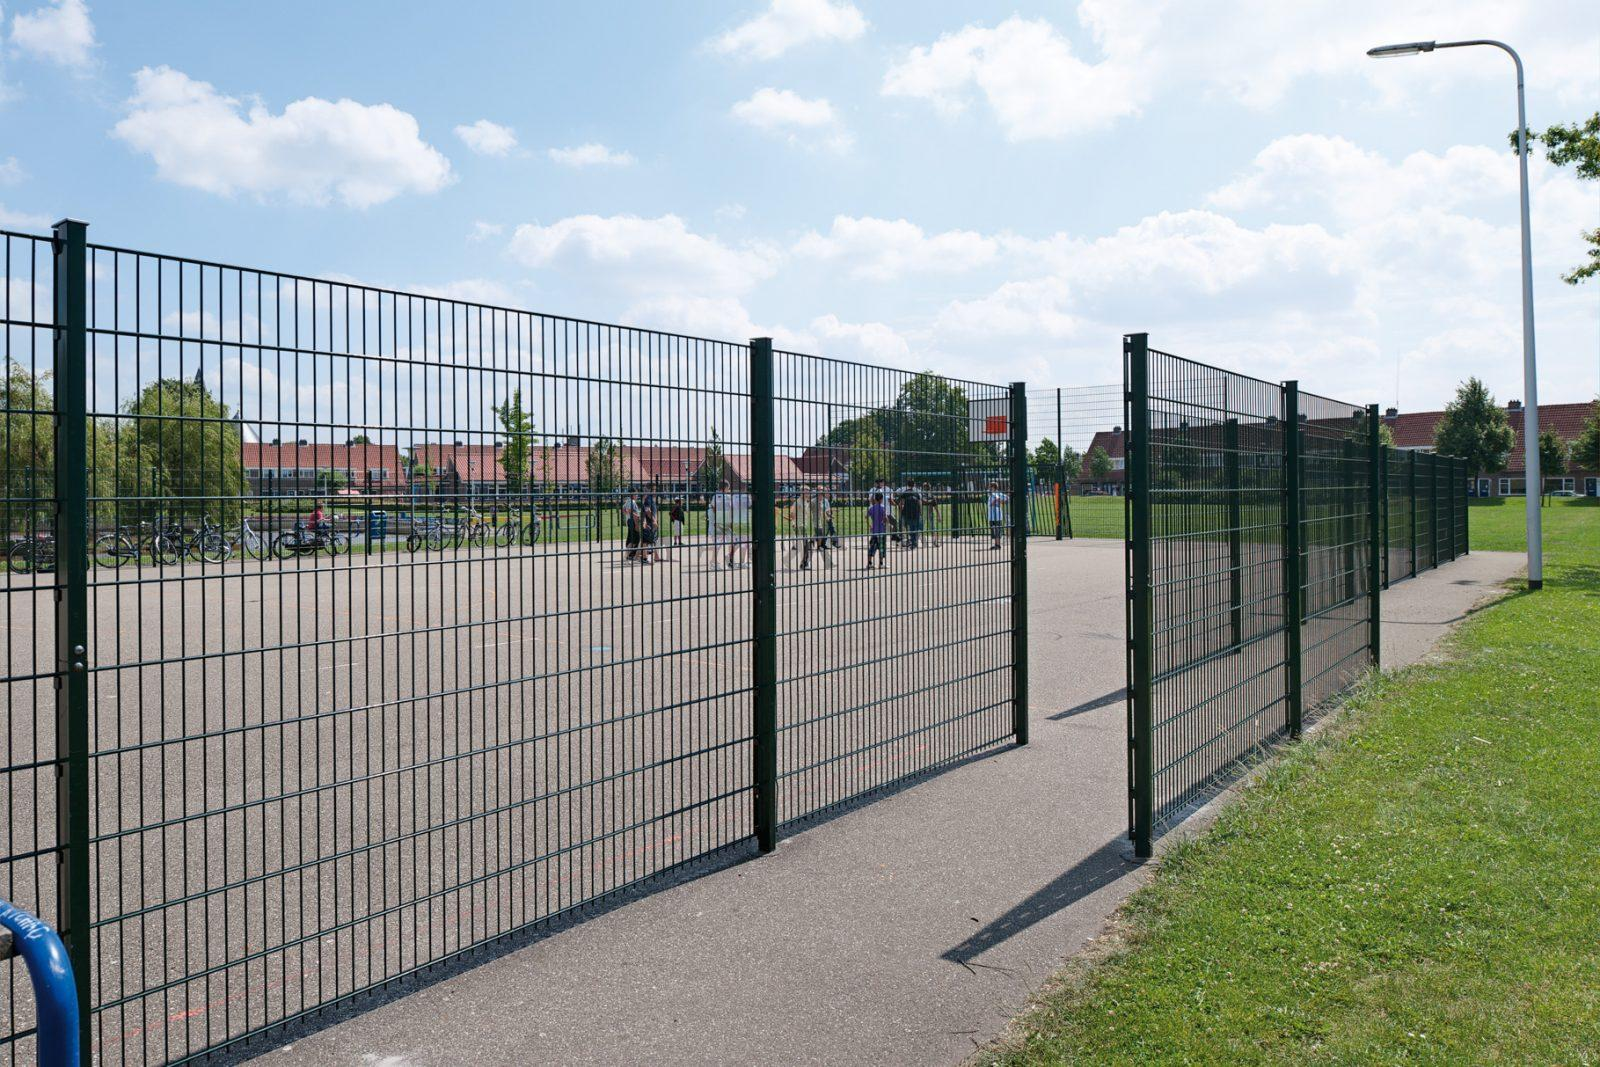obstacle: (238, 348, 1538, 903)
